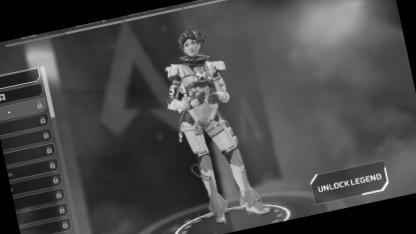Target: (150, 16, 254, 206)
